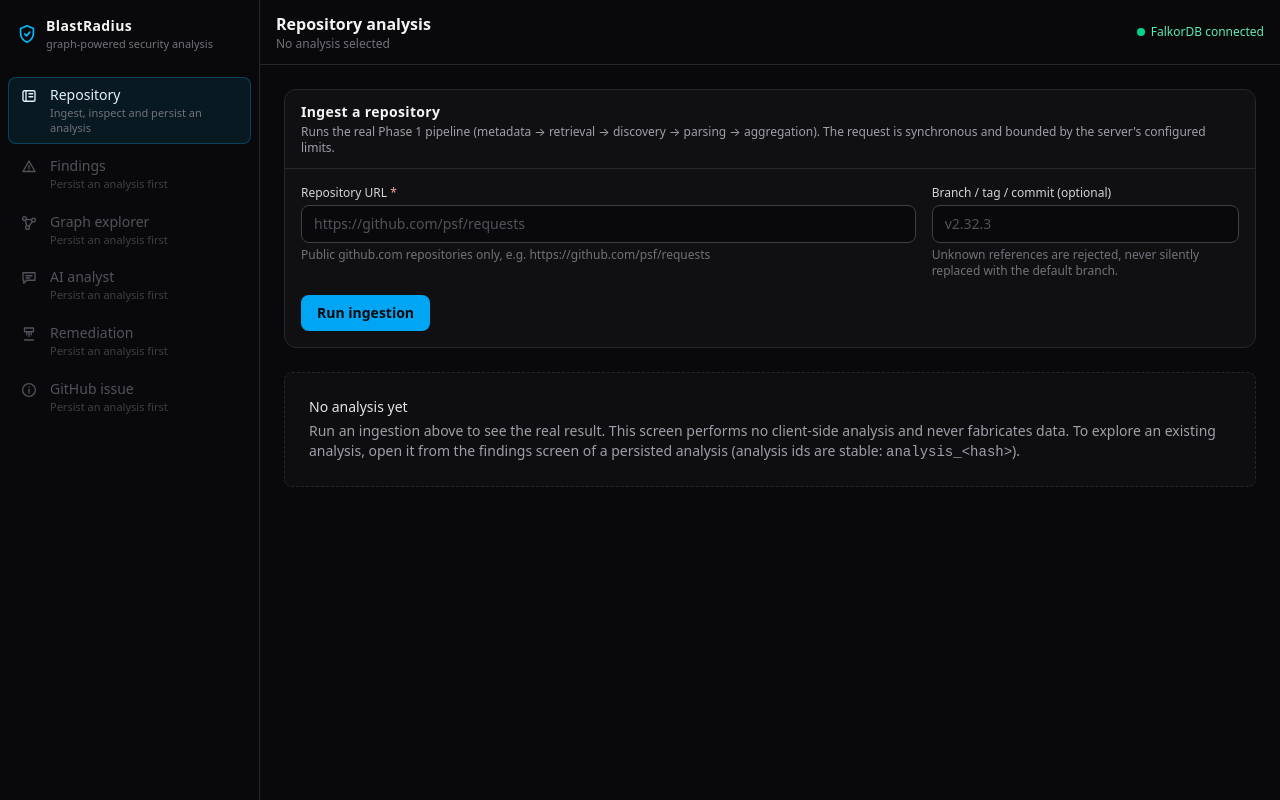
Screen A — repository analysis › rejects non-GitHub URLs before making any request
Type "https://gitlab.com/example/demo" into the field labelled "Repository URL *". click: (608, 224)
box: [301,205,916,243]
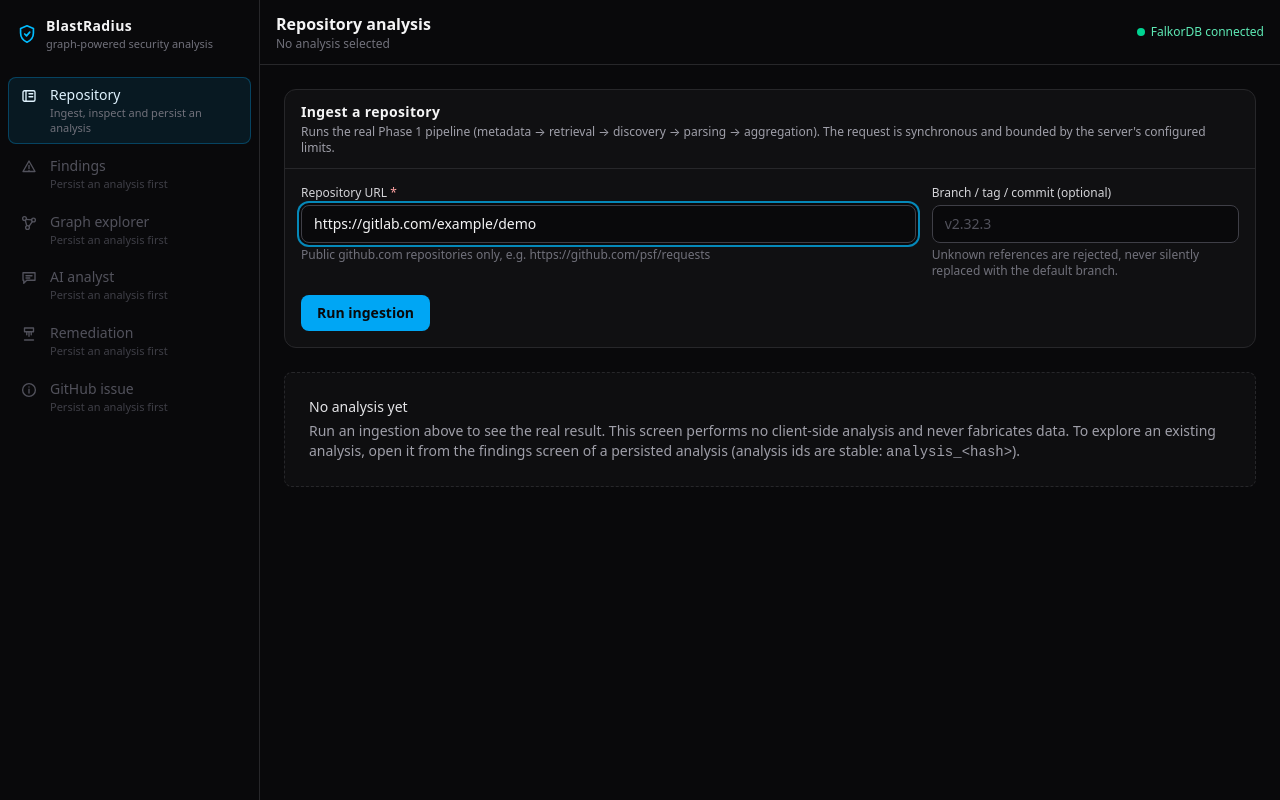
Click the button "Run ingestion". click: (366, 313)
box: [301,295,430,331]
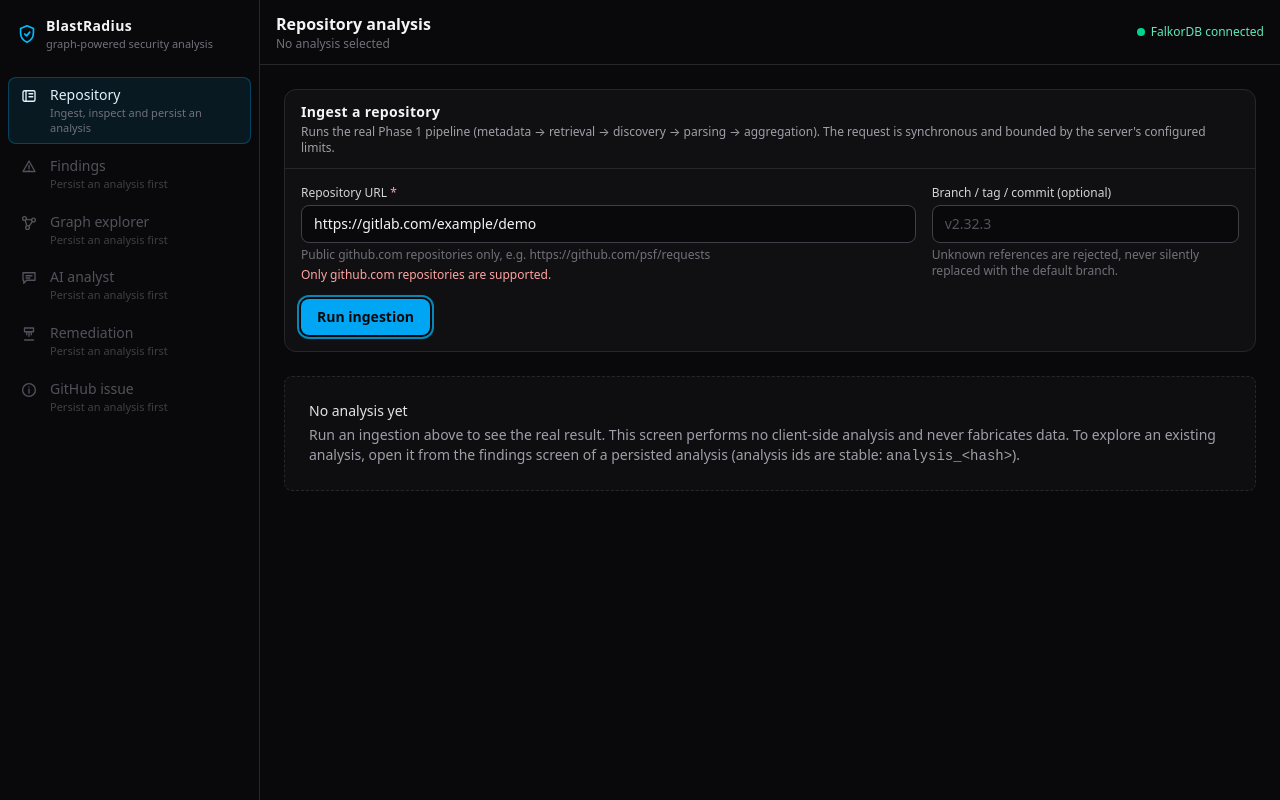
Now the text "Only github.com repositories are supported." is shown, box [301,266,551,283]
